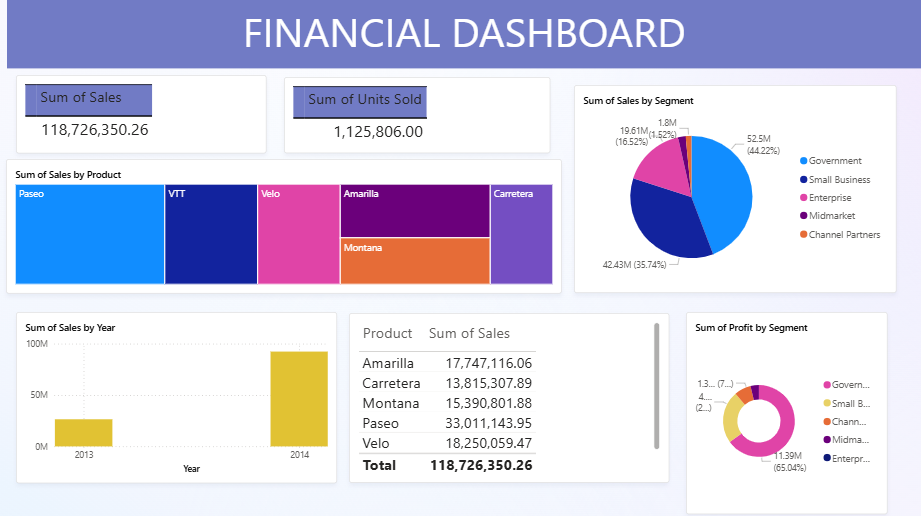

The page's visual inventory and layout, read from the dashboard file:
{"tool":"powerbi","page":{"name":"Page 1","canvas":[1280,720],"ordinal":0},"visuals":[{"type":"textbox","box":[9.1,0,1270.5,95.5],"z":0},{"type":"pivotTable","fields":{"Values":["Sum(financials.Sales)"]},"box":[22,104.6,348.2,108.7],"z":1000},{"type":"pivotTable","fields":{"Values":["Sum(financials.Units Sold)"]},"box":[395,107.4,370.2,106],"z":2000},{"type":"clusteredColumnChart","fields":{"Category":["financials.Date.Variation.Date Hierarchy.Year","financials.Date.Variation.Date Hierarchy.Quarter","financials.Date.Variation.Date Hierarchy.Month","financials.Date.Variation.Date Hierarchy.Day"],"Y":["Sum(financials.Sales)"]},"box":[21.7,433.3,446.4,237.7],"z":3000},{"type":"pieChart","fields":{"Category":["financials.Segment"],"Y":["Sum(financials.Sales)"]},"box":[797.6,118.1,448.2,289.2],"z":4000},{"type":"tableEx","fields":{"Values":["financials.Product","Sum(financials.Sales)"]},"box":[484.1,434.8,444.9,236.2],"z":5000},{"type":"donutChart","fields":{"Category":["financials.Segment"],"Y":["Sum(financials.Profit)"]},"box":[953,433.7,279.5,280.7],"z":6000},{"type":"treemap","fields":{"Group":["financials.Product"],"Values":["Sum(financials.Sales)"]},"box":[8.7,220.3,772.5,187],"z":7000}]}

Visuals, with their boxes in screenshot pixels (x1, y1, x2, y2), scaled from the page's 1280x720 canvas onto the 921x516 screenshot:
textbox: Rect(7, 0, 920, 68)
pivotTable - Sum(financials.Sales): Rect(16, 75, 266, 153)
pivotTable - Sum(financials.Units Sold): Rect(284, 77, 551, 153)
clusteredColumnChart - financials.Date.Variation.Date Hierarchy.Year x financials.Date.Variation.Date Hierarchy.Quarter: Rect(16, 311, 337, 481)
pieChart - financials.Segment x Sum(financials.Sales): Rect(574, 85, 896, 292)
tableEx - financials.Product x Sum(financials.Sales): Rect(348, 312, 668, 481)
donutChart - financials.Segment x Sum(financials.Profit): Rect(686, 311, 887, 512)
treemap - financials.Product x Sum(financials.Sales): Rect(6, 158, 562, 292)
